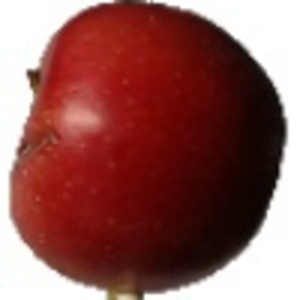maçã braeburn: (6, 1, 286, 292)
